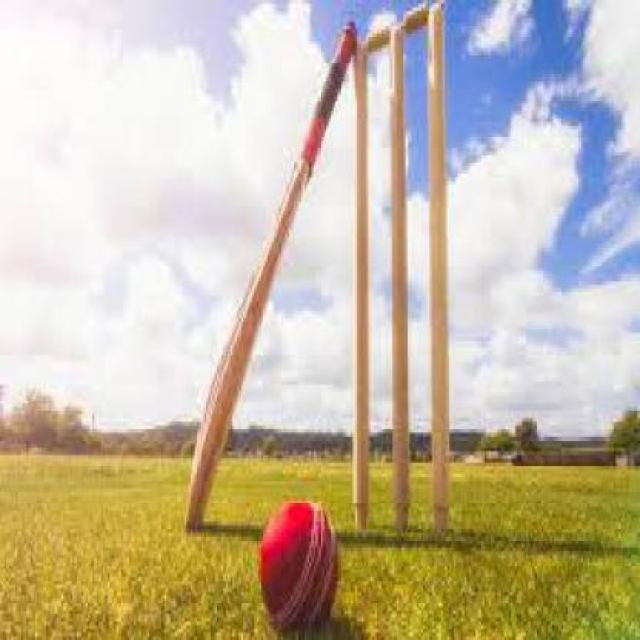ball: (227, 474, 361, 640)
